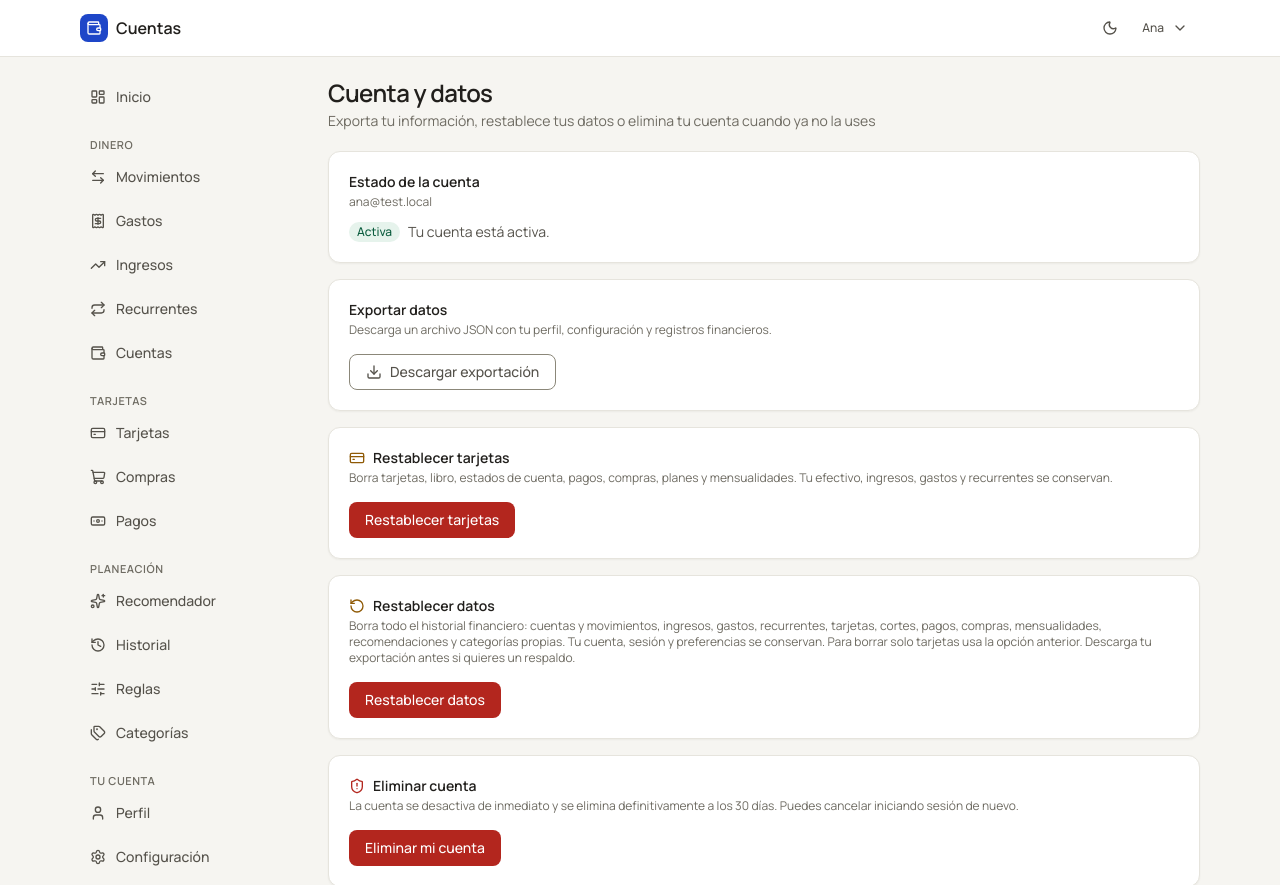
Test: cuenta y datos › restablece los datos financieros con contraseña y confirmación
Click the button "Restablecer datos".
click(425, 700)  # box x1=349 y1=682 x2=501 y2=718
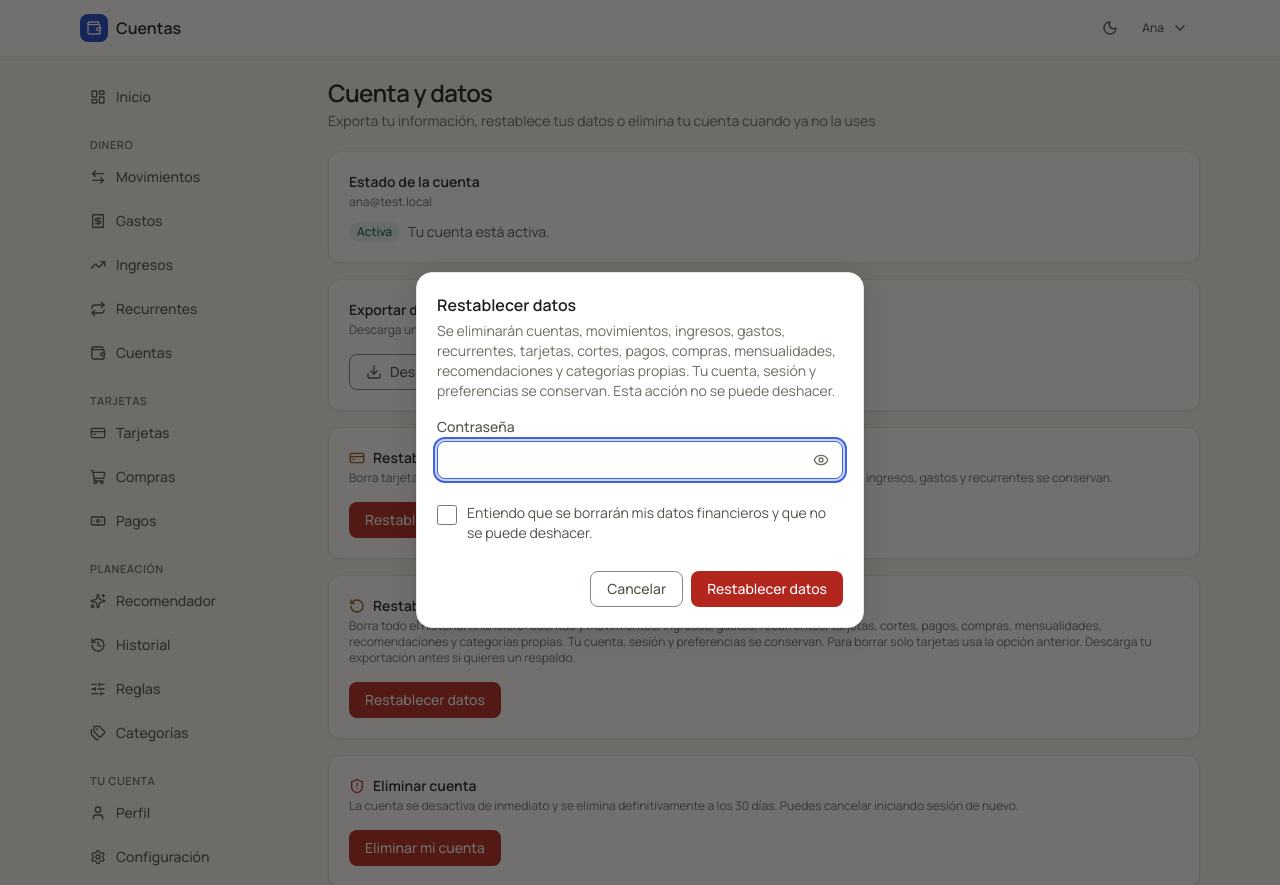
Type "Password1234" into the password field labelled "Contraseña".
click(640, 460); type("Password1234")  # box x1=437 y1=441 x2=843 y2=479
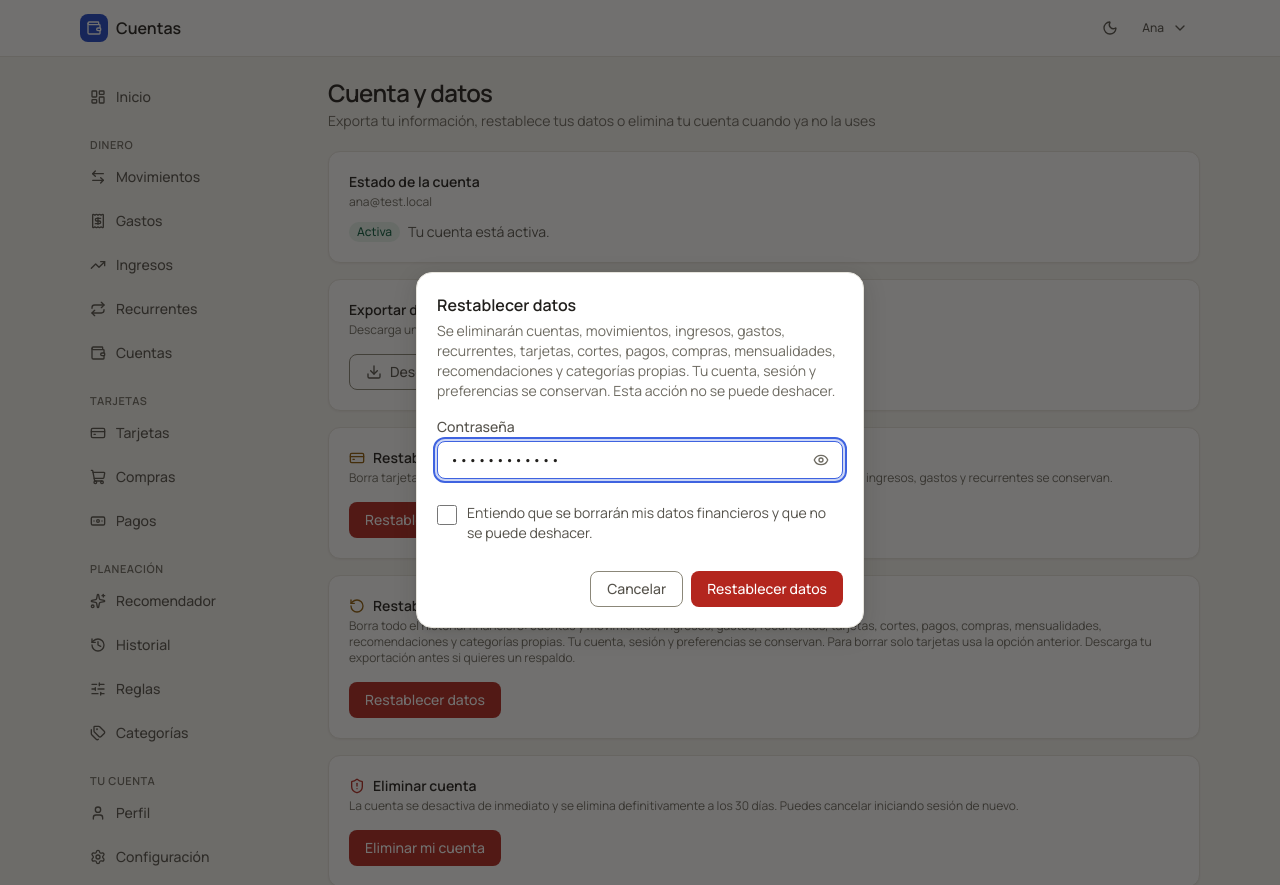
Click the checkbox.
click(447, 515)  # box x1=437 y1=505 x2=457 y2=525
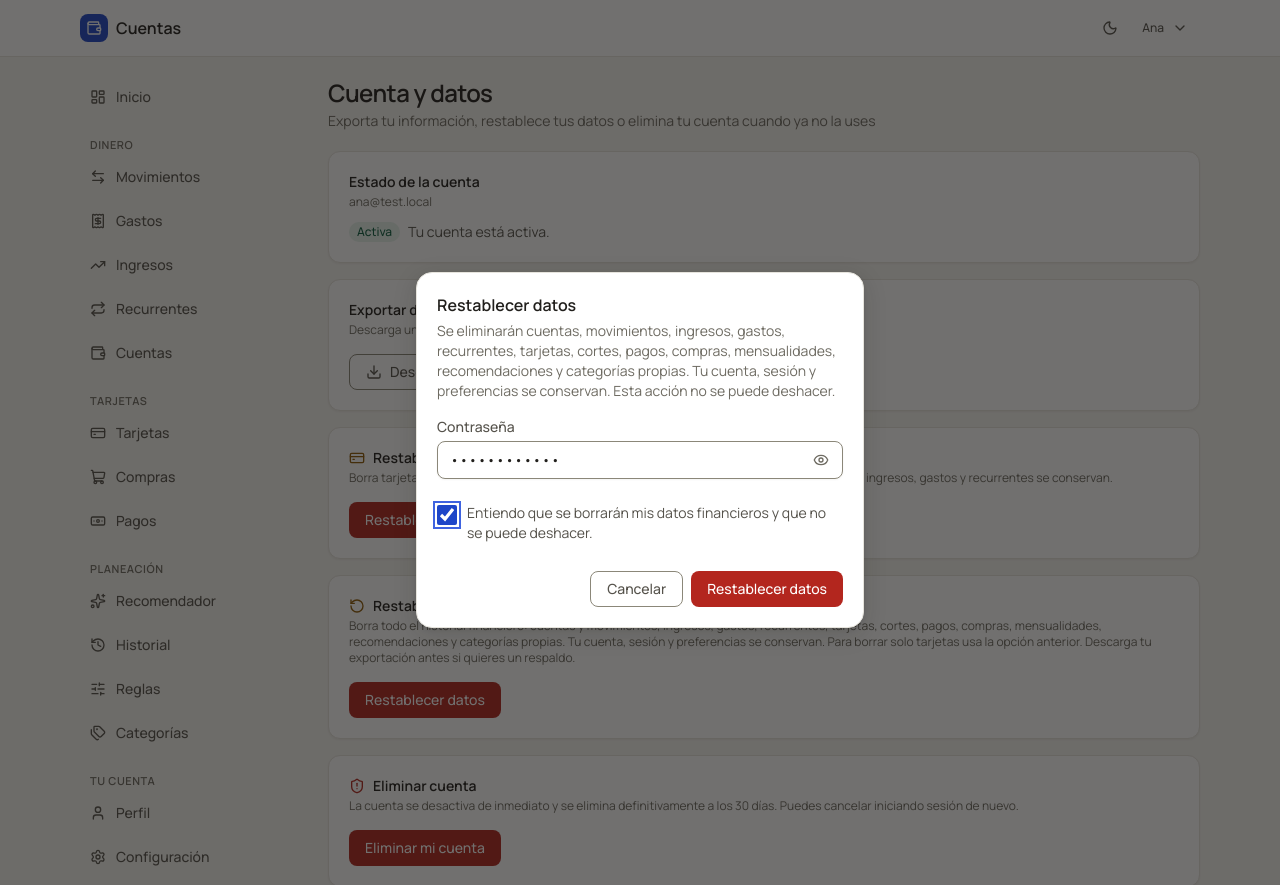
Click the button "Restablecer datos".
click(767, 589)  # box x1=691 y1=571 x2=843 y2=607
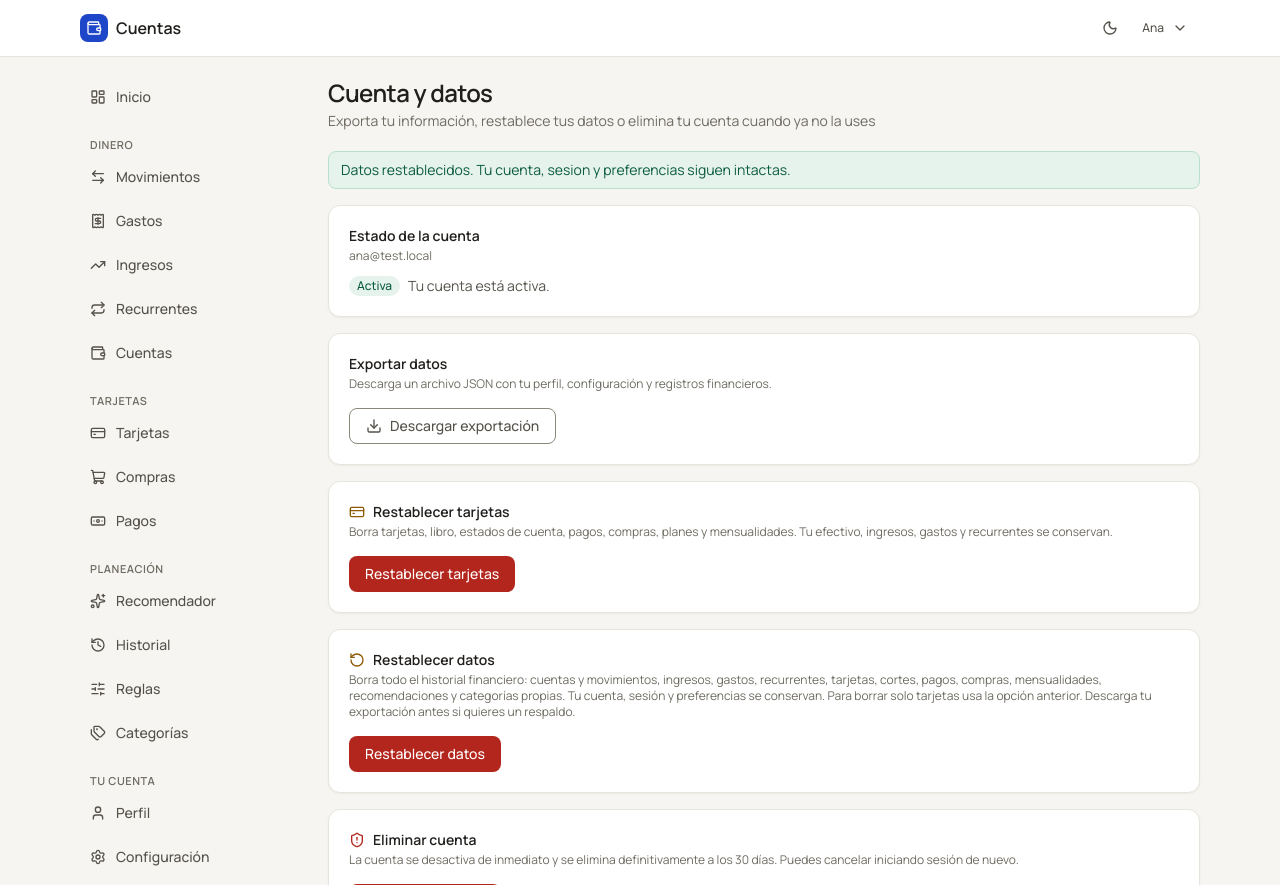
Check: the text "Datos restablecidos. Tu cuenta, sesion y preferencias siguen intactas." is shown, box x1=328 y1=151 x2=1200 y2=189
